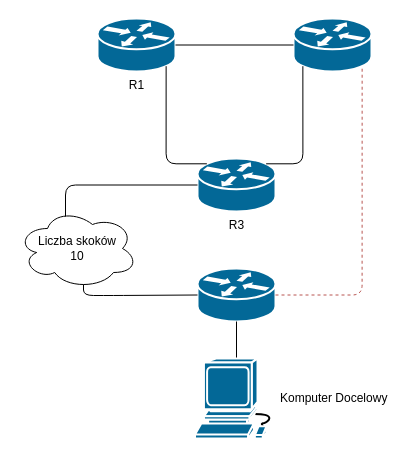
The diagram is 404 pixels wide and 456 high, and some of its shapes have lost their labels. Each missing label, with the box of its shape:
R2: (292, 17, 372, 72)
R4: (196, 267, 276, 322)
